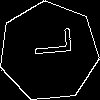L: (24, 26, 72, 58)
